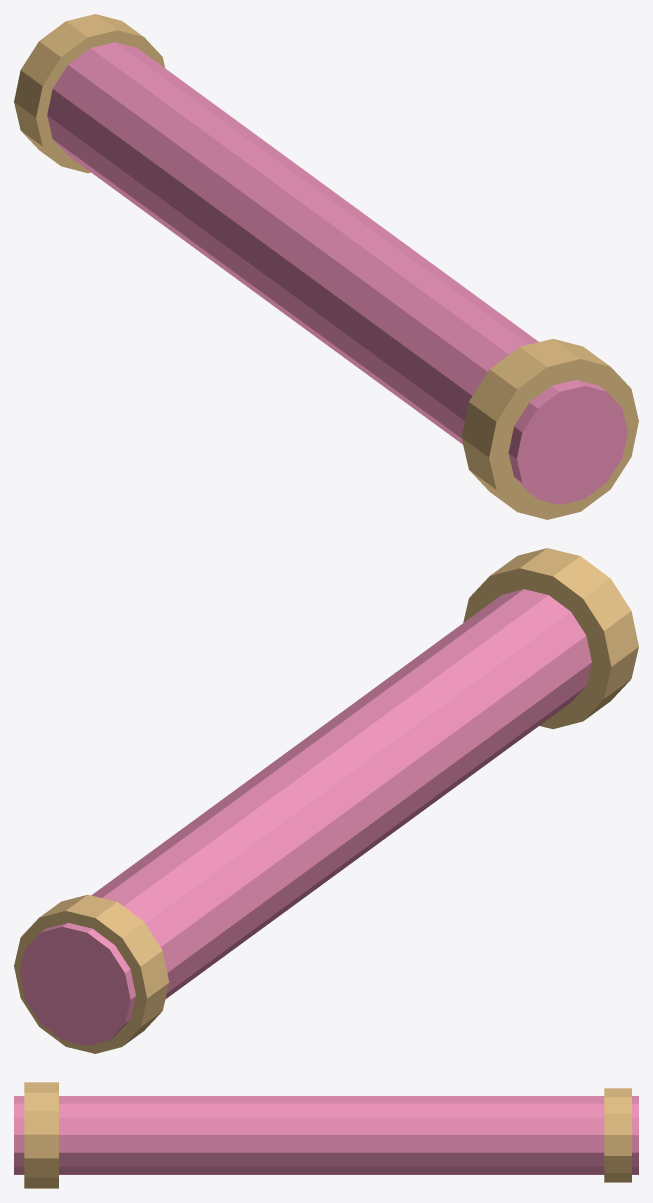
Rendered from MatchBarrel.obj.
The picture shows the model from 3 angles, top to bottom: view 1: azimuth 30°, elevation 25°; view 2: azimuth 150°, elevation 25°; view 3: azimuth 270°, elevation 25°; orthographic projection. The views are drawn at different scales.
Parts seen in each view (by area): view 1: MatchBarrel_Body, MatchBarrel_Detail; view 2: MatchBarrel_Body, MatchBarrel_Detail; view 3: MatchBarrel_Body, MatchBarrel_Detail.
Boxes of the visible parts, left/top/right/bottom form: MatchBarrel_Body: left=47, top=42, right=627, bottom=504; MatchBarrel_Detail: left=14, top=14, right=638, bottom=519; MatchBarrel_Body: left=19, top=589, right=591, bottom=1045; MatchBarrel_Detail: left=14, top=548, right=638, bottom=1053; MatchBarrel_Body: left=14, top=1096, right=638, bottom=1174; MatchBarrel_Detail: left=24, top=1082, right=631, bottom=1188.
Size of the model in its own units: 0.1566 by 0.1527 by 0.9.
